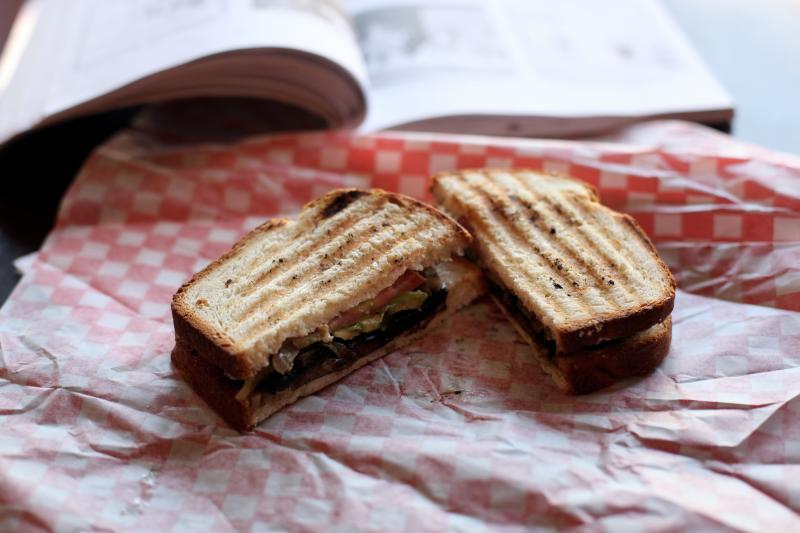slice of bread: (161, 181, 496, 447), (441, 163, 685, 407)
